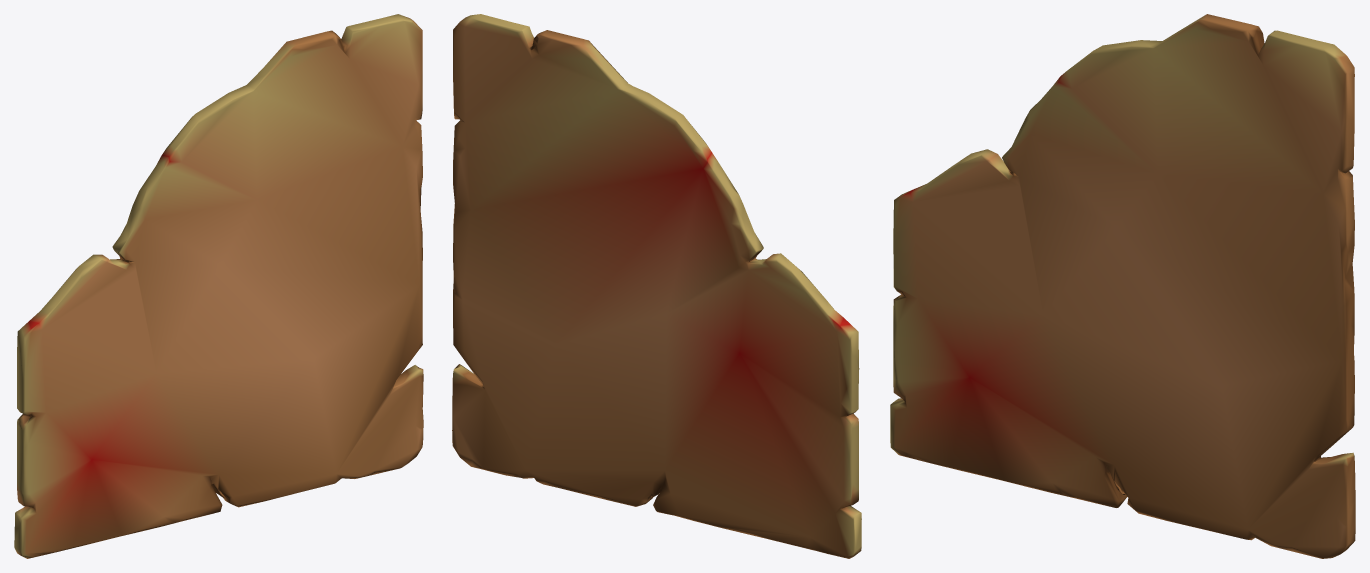
Rendered from gen3d-map-piece-lod1.glb.
3 renders of one model, left to right at view 1: azimuth 30°, elevation 25°; view 2: azimuth 150°, elevation 25°; view 3: azimuth 330°, elevation 25°, orthographic. The views are drawn at different scales.
Visible parts, largest first — view 1: part_0; view 2: part_0; view 3: part_0.
Boxes of the visible parts, x1=… form: part_0: x1=14, y1=14, x2=423, y2=558; part_0: x1=452, y1=14, x2=861, y2=558; part_0: x1=890, y1=14, x2=1355, y2=558.
Bounding box in the file's own units: 0.9394 × 1 × 0.0309.
